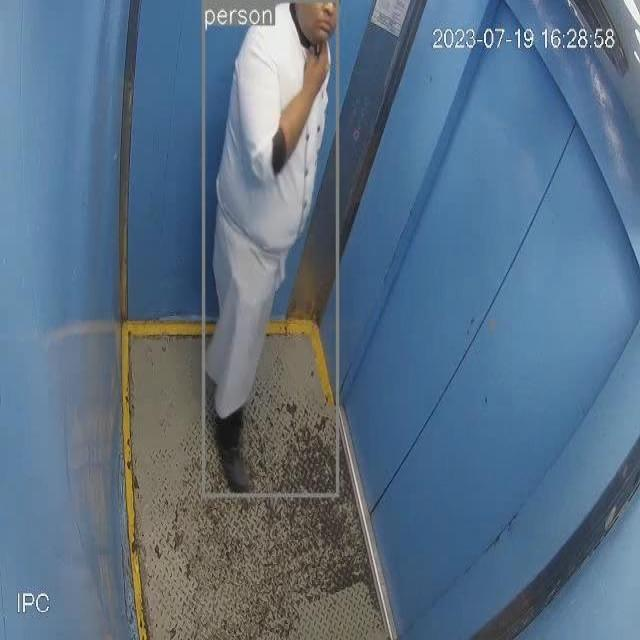person: (203, 1, 339, 495)
